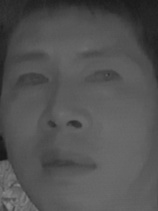eye: (14, 69, 52, 93), (83, 67, 125, 88)
mouth: (39, 146, 98, 179)
